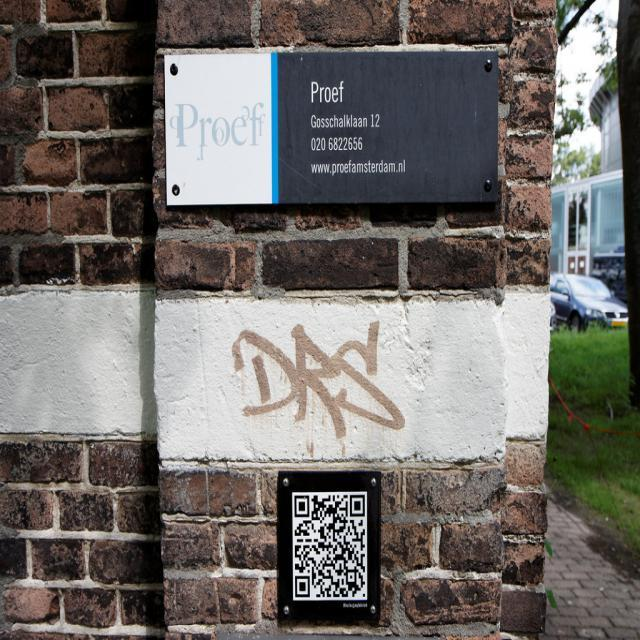qrcode: (296, 496, 366, 597)
